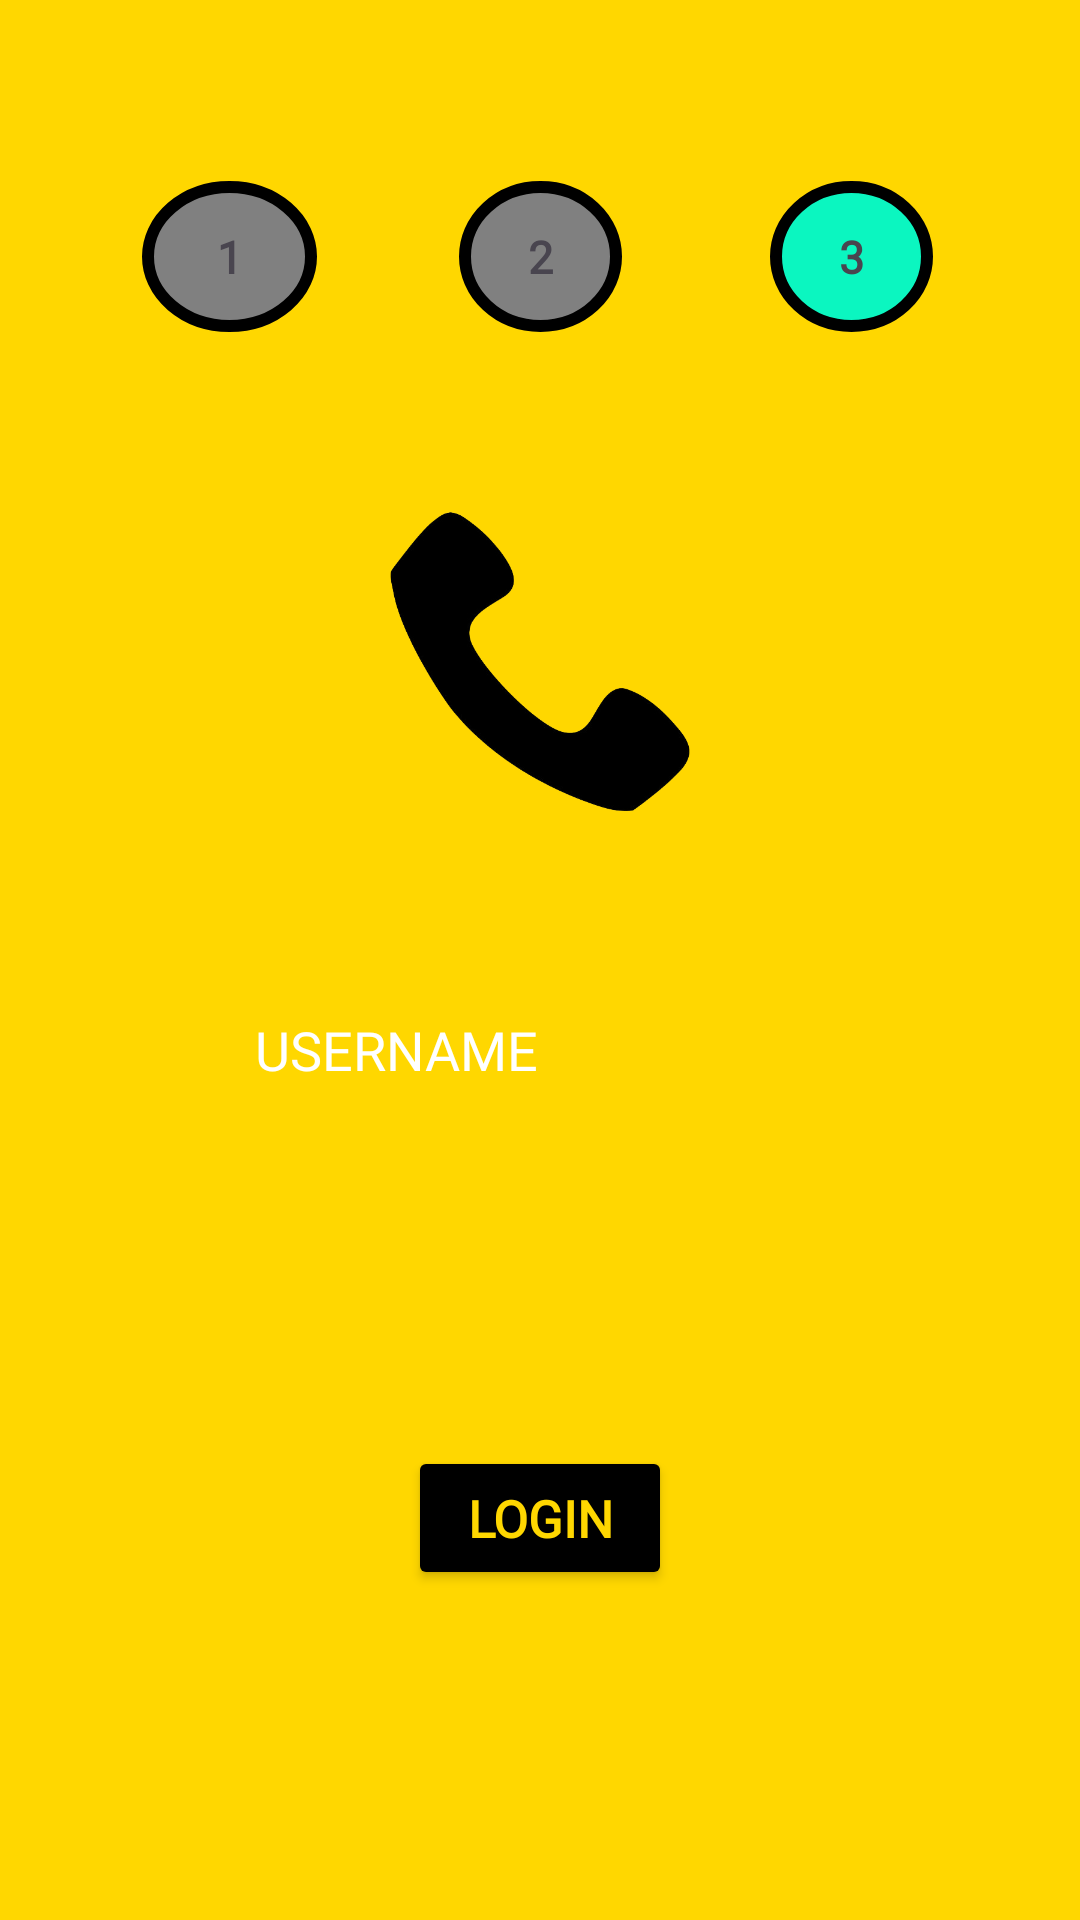

Named icons in this screenshot (1080×1920) and their bounding boxes, [left=x1, top=y1, right=x2, bottom=y2]:
phone: [left=390, top=512, right=690, bottom=811]
